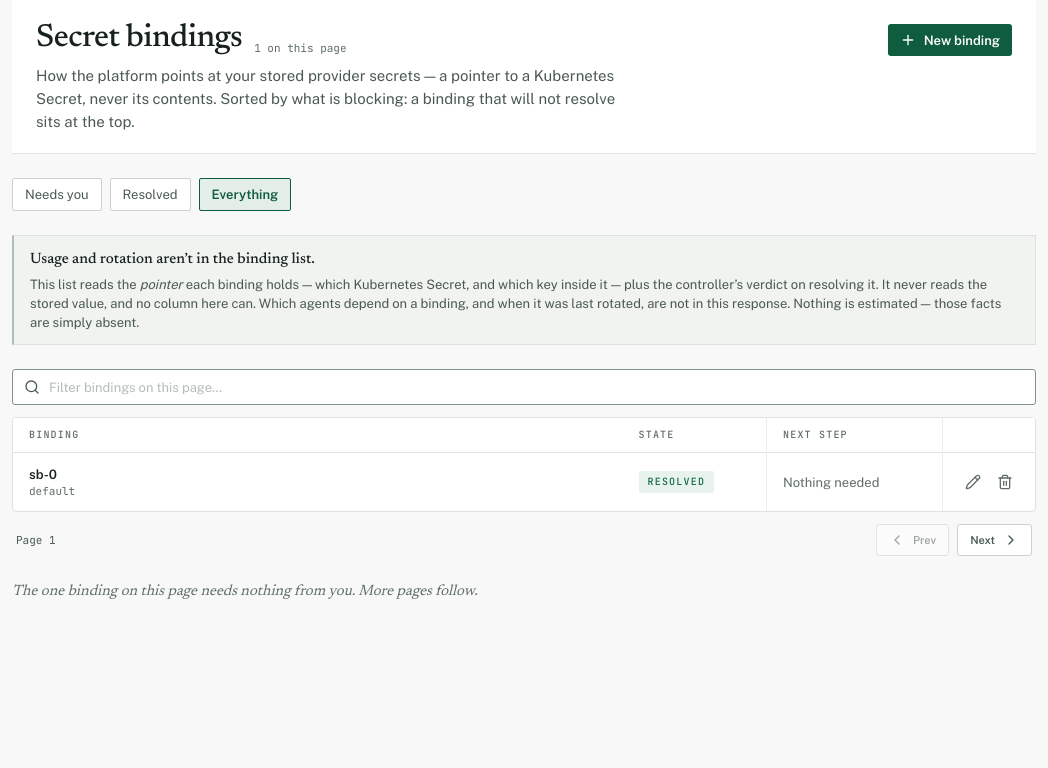
Test: SecretBindingsPage — list › paginates with cursor
This screenshot has width=1048, height=768.
Expected: the text "sb-0" is shown, [29,467,57,482]
Click the button with aria-label "Next page".
click(995, 540)  # box [957,524,1032,556]
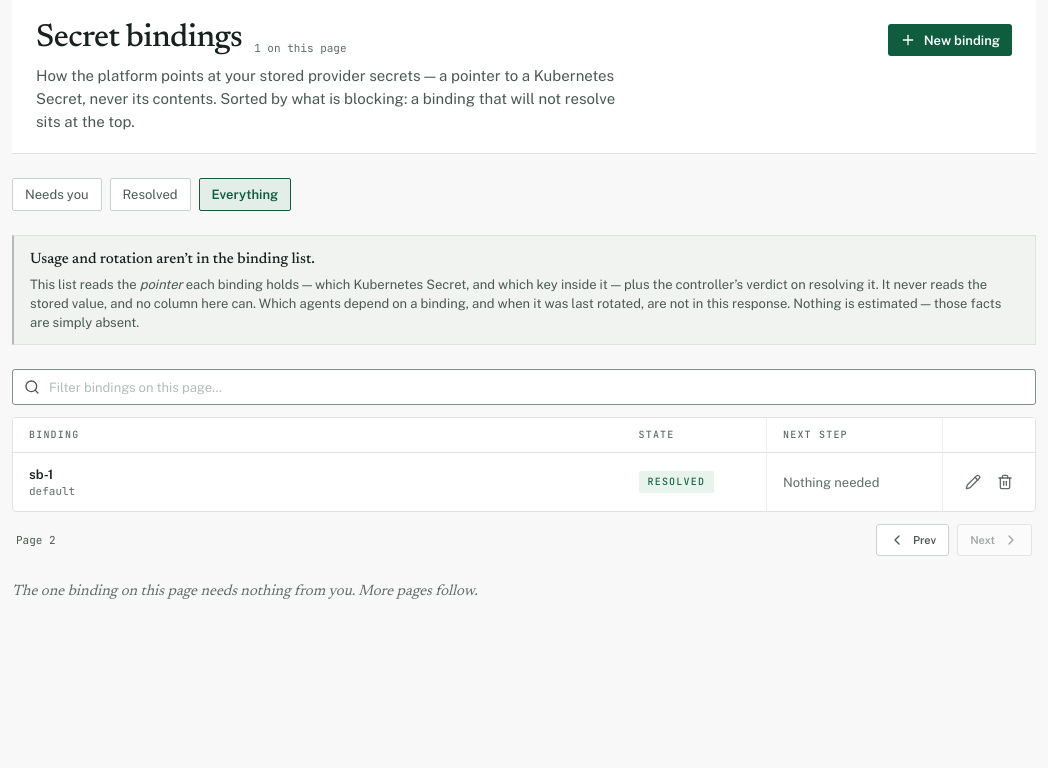
Expected: the text "sb-1" is shown, [29,467,53,482]
